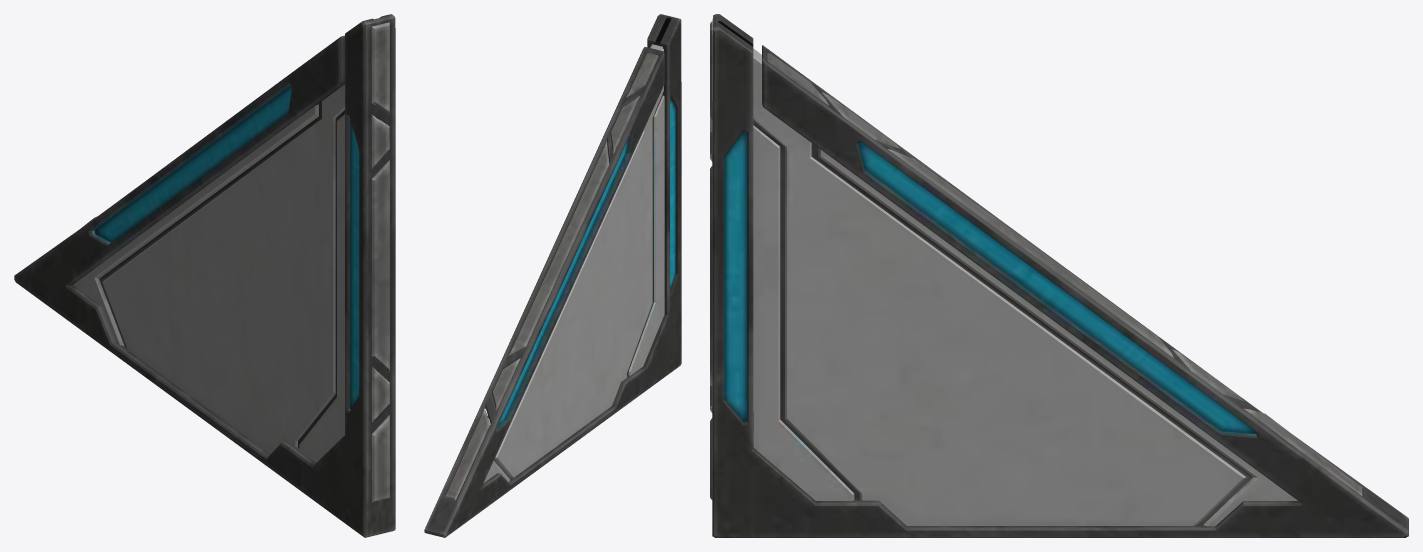
File: SM_WallTryangle_Ancient_fb3253.glb
3 views of the same model, side by side, from view 1: azimuth 30°, elevation 25°; view 2: azimuth 150°, elevation 25°; view 3: azimuth 270°, elevation 25° (orthographic). The views are drawn at different scales.
Size of the model in its own units: 0.2106 by 3.23 by 4.01.
Materials: 1 (1 with a texture image).
